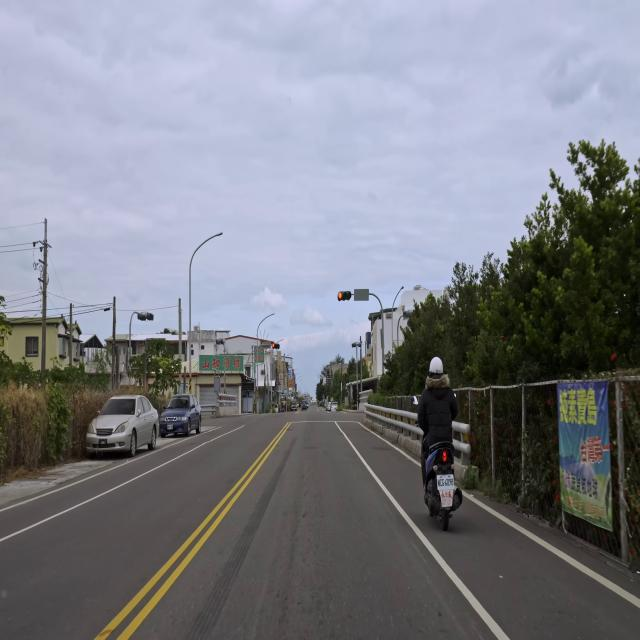red light: (338, 291, 352, 301), (272, 342, 280, 350)
